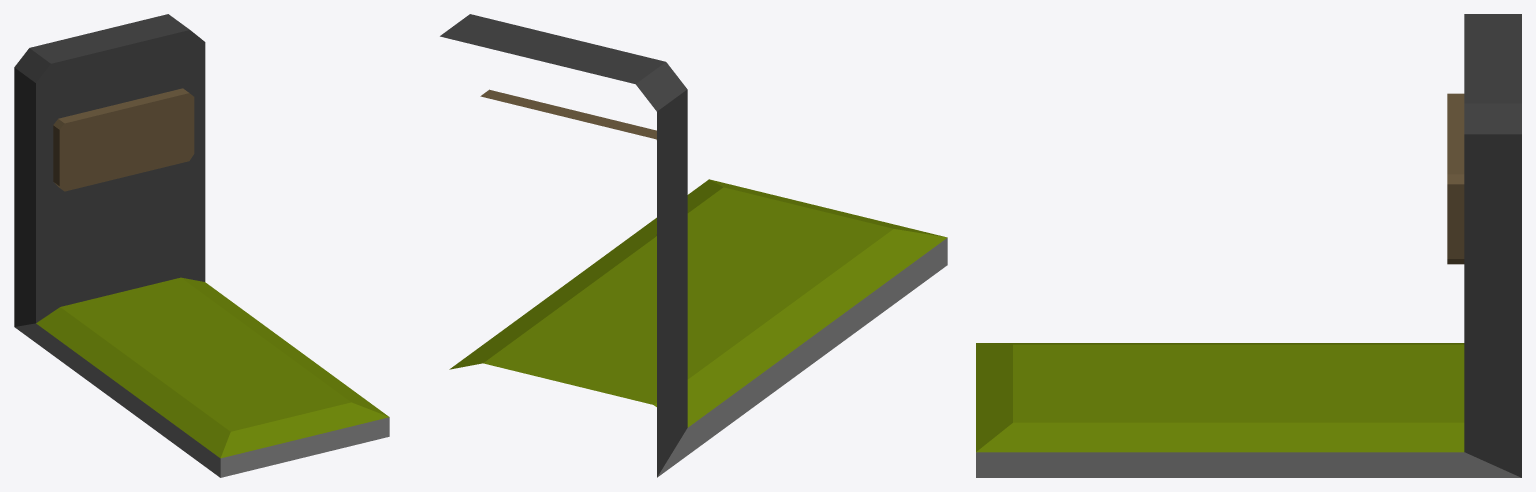
File: TombSquareWithRect.glb
The picture shows the model from 3 angles, left to right: view 1: azimuth 30°, elevation 25°; view 2: azimuth 150°, elevation 25°; view 3: azimuth 270°, elevation 25°; orthographic projection. The views are drawn at different scales.
Parts seen in each view (by area): view 1: TombSquareWithRect; view 2: TombSquareWithRect; view 3: TombSquareWithRect.
Boxes of the visible parts, x1,y1,x2,y2 form: TombSquareWithRect: (14, 14, 389, 477); TombSquareWithRect: (440, 14, 947, 477); TombSquareWithRect: (976, 14, 1521, 477).
Bounding box in the file's own units: 0.9 × 1.4 × 1.9.
